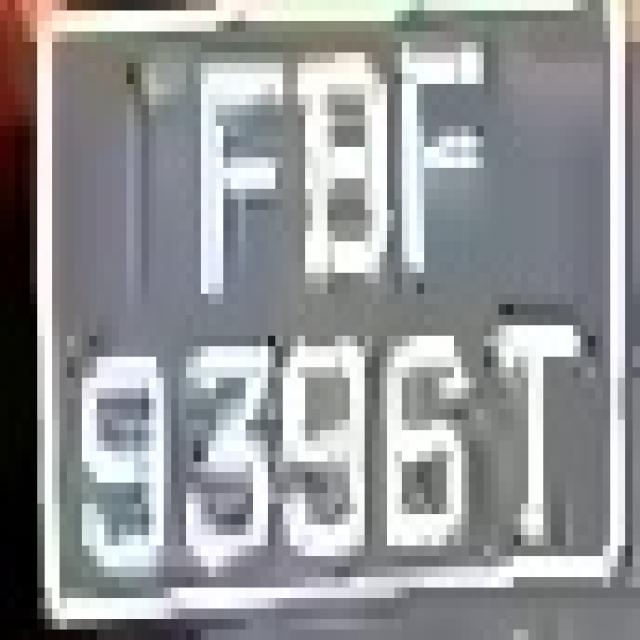3: (156, 304, 268, 598)
6: (364, 294, 484, 598)
9: (268, 283, 379, 598), (67, 325, 179, 588)
B: (276, 32, 394, 304)
F: (164, 32, 298, 304), (387, 42, 499, 273)
T: (476, 294, 588, 577)
